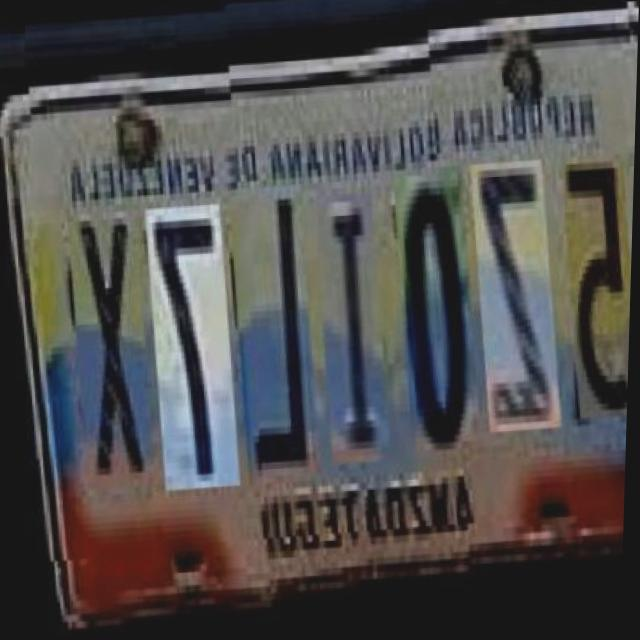5: (552, 159, 636, 426)
7: (134, 190, 238, 478)
i: (302, 189, 390, 461)
l: (217, 178, 320, 474)
o: (382, 169, 480, 450)
x: (56, 195, 154, 475)
z: (461, 164, 560, 439)
